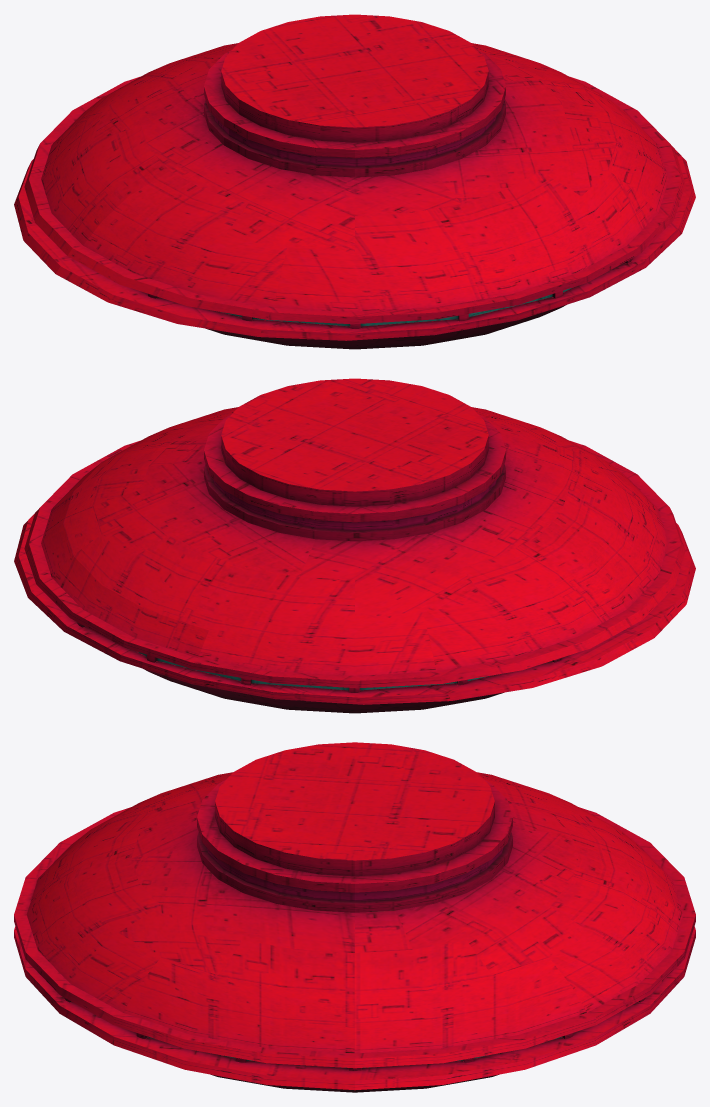
File: MonsterB_Die0.obj
3 renders of one model, top to bottom at view 1: azimuth 30°, elevation 25°; view 2: azimuth 150°, elevation 25°; view 3: azimuth 270°, elevation 25°, orthographic. The views are drawn at different scales.
Parts seen in each view (by area): view 1: Sphere001; view 2: Sphere001; view 3: Sphere001.
Part boxes in pixels (left/top/right/bottom): Sphere001: left=14, top=14, right=695, bottom=349; Sphere001: left=14, top=378, right=695, bottom=713; Sphere001: left=14, top=742, right=695, bottom=1092.
Size of the model in its own units: 204 by 72.61 by 192.
Materials: 1 (1 with a texture image).
